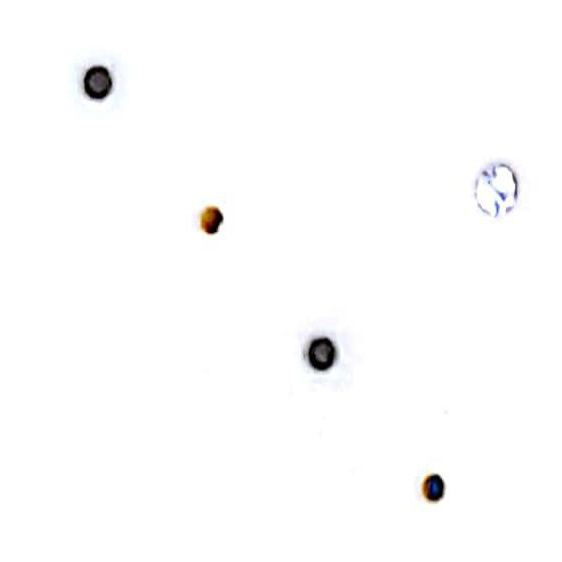abnormal: (456, 144, 537, 229)
cancer: (282, 313, 371, 393), (63, 48, 144, 120)
normal: (186, 191, 243, 247), (405, 466, 463, 520)
